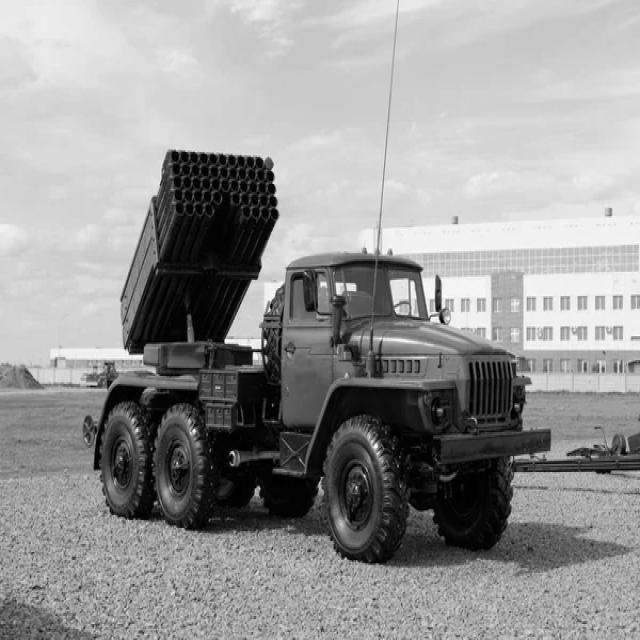Truck: (84, 152, 552, 562)
